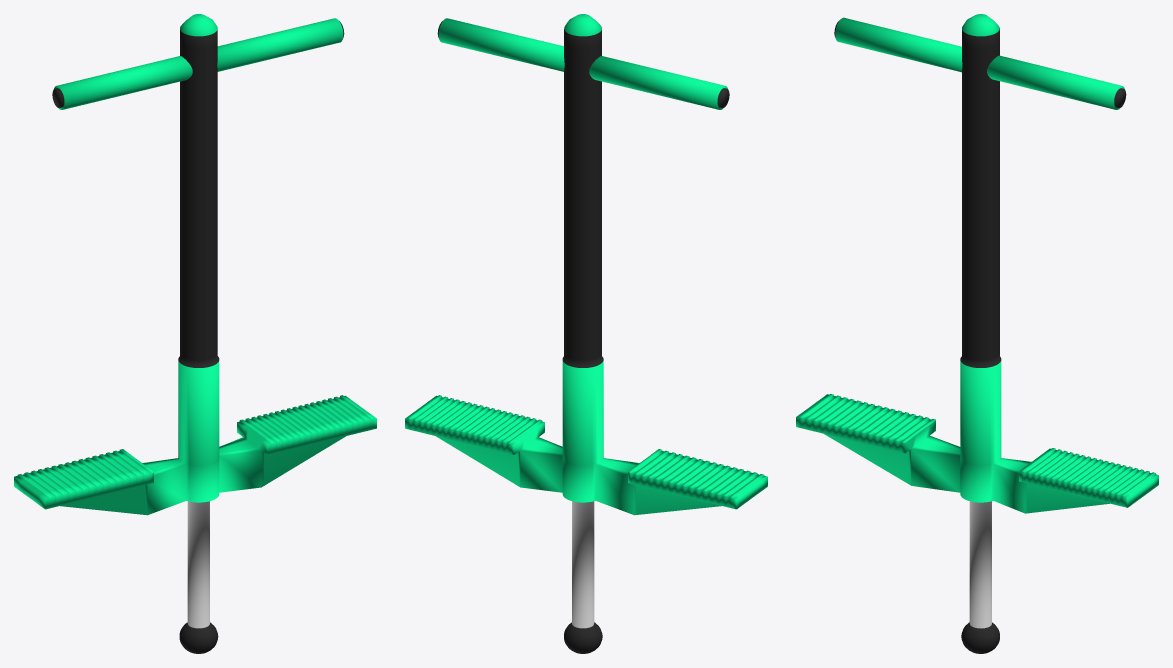
Rendered from pogo.fbx.
3 renders of one model, left to right at view 1: azimuth 30°, elevation 25°; view 2: azimuth 150°, elevation 25°; view 3: azimuth 330°, elevation 25°, orthographic.
Visible parts, largest first — view 1: Sphere; view 2: Sphere; view 3: Sphere.
Part boxes in pixels (x1,y1,x2,y2): Sphere: (14,14,376,653); Sphere: (405,14,767,653); Sphere: (796,14,1158,653).
Bounding box in the file's own units: 162 × 295 × 26.23.
